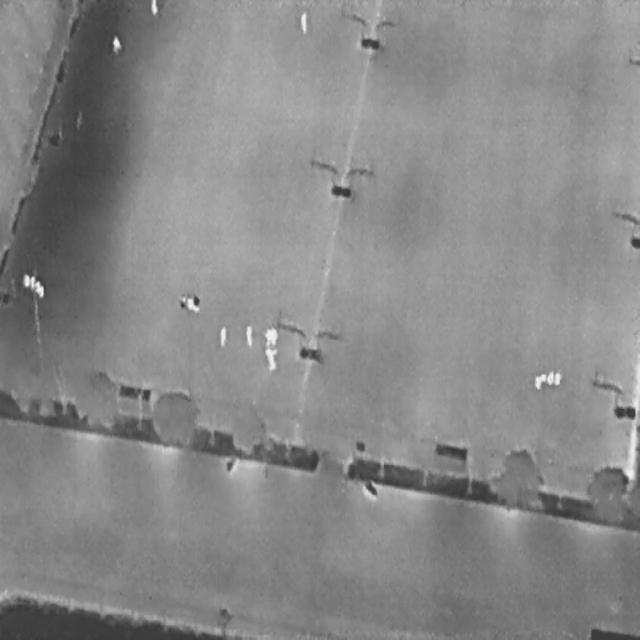Person: (111, 35, 121, 53), (299, 10, 307, 32), (218, 325, 226, 346), (268, 350, 276, 371), (245, 324, 252, 346), (263, 328, 271, 347), (270, 326, 277, 345), (264, 346, 271, 364), (149, 0, 157, 15)
